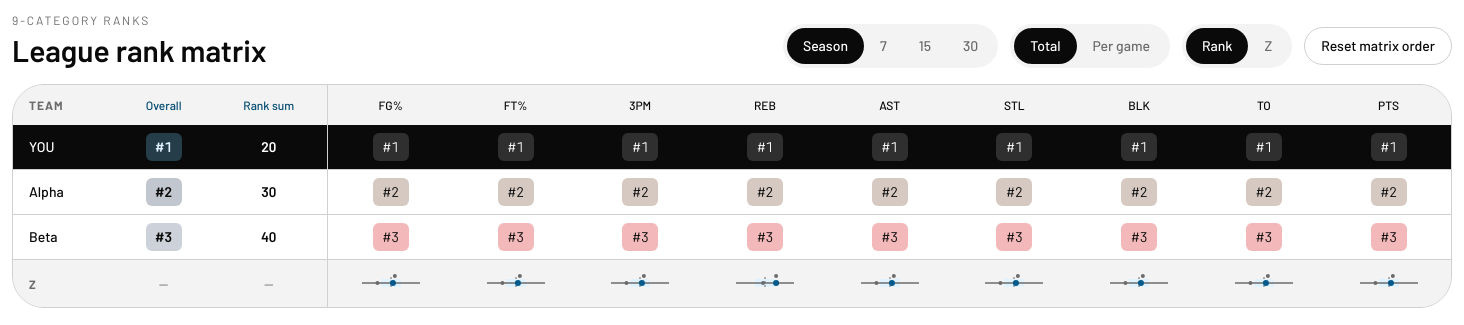
Test: LeagueRankMatrix rank basis › switches the matrix to a recent-form ranking
Expected: the 10th cell "#1" is shown, [1326,125,1451,170]
Click the radio button labelled "7".
click(883, 46)  # box [864,28,903,64]
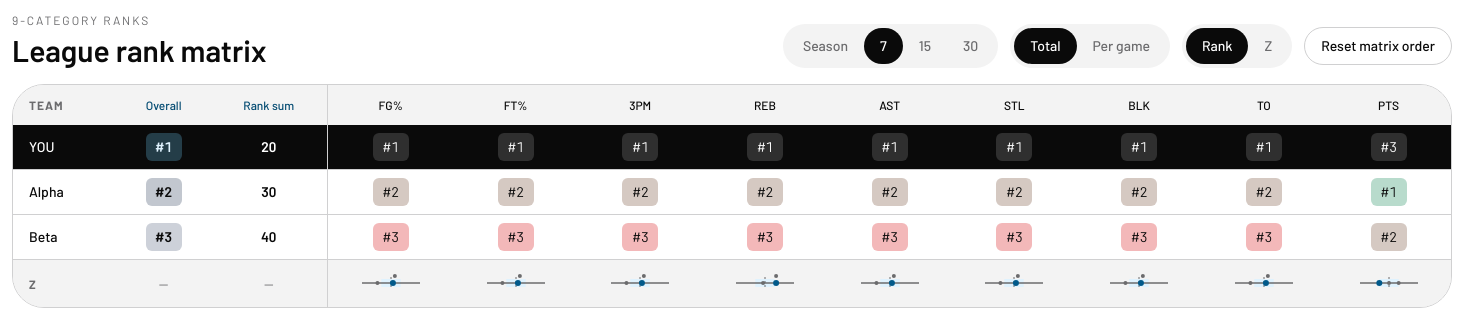
Now the cell "#3" in the row of "YOU" is shown, box [1380,138,1397,155]
Click the radio button labelled "Season".
click(825, 46)  # box [787,28,864,64]
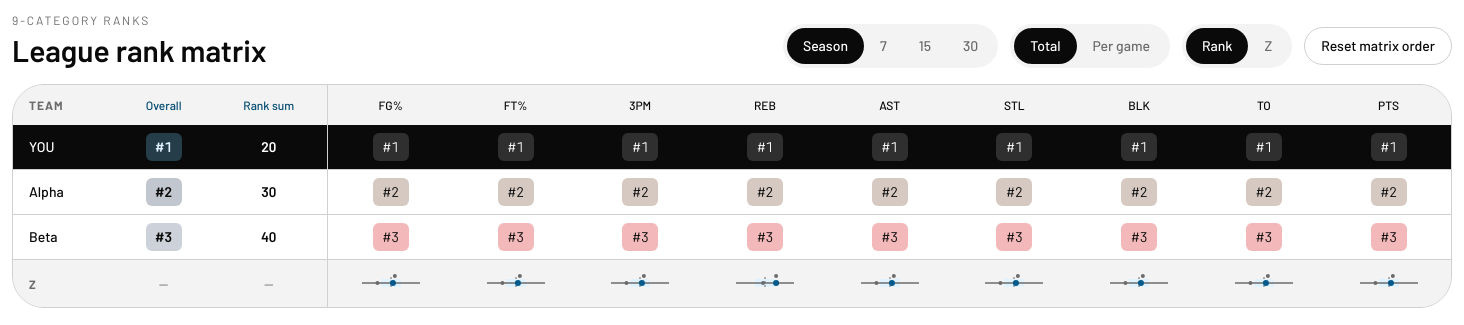
Now the 10th cell "#1" is shown, box [1326,125,1451,170]
